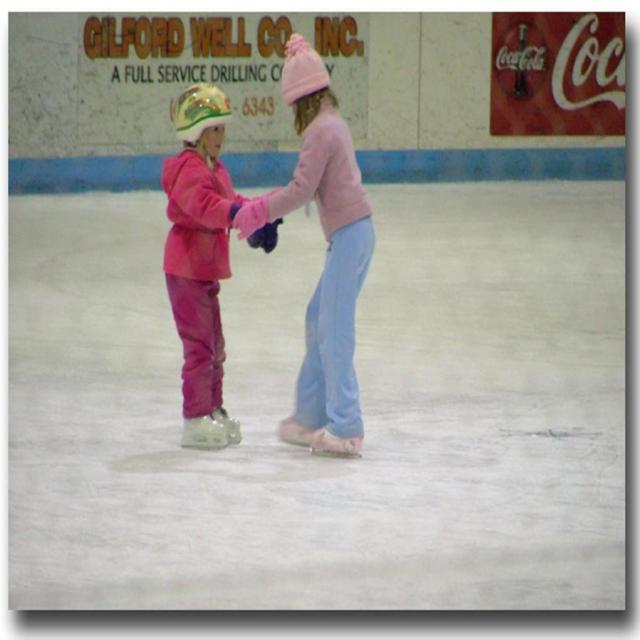nomask: (203, 117, 226, 156)
